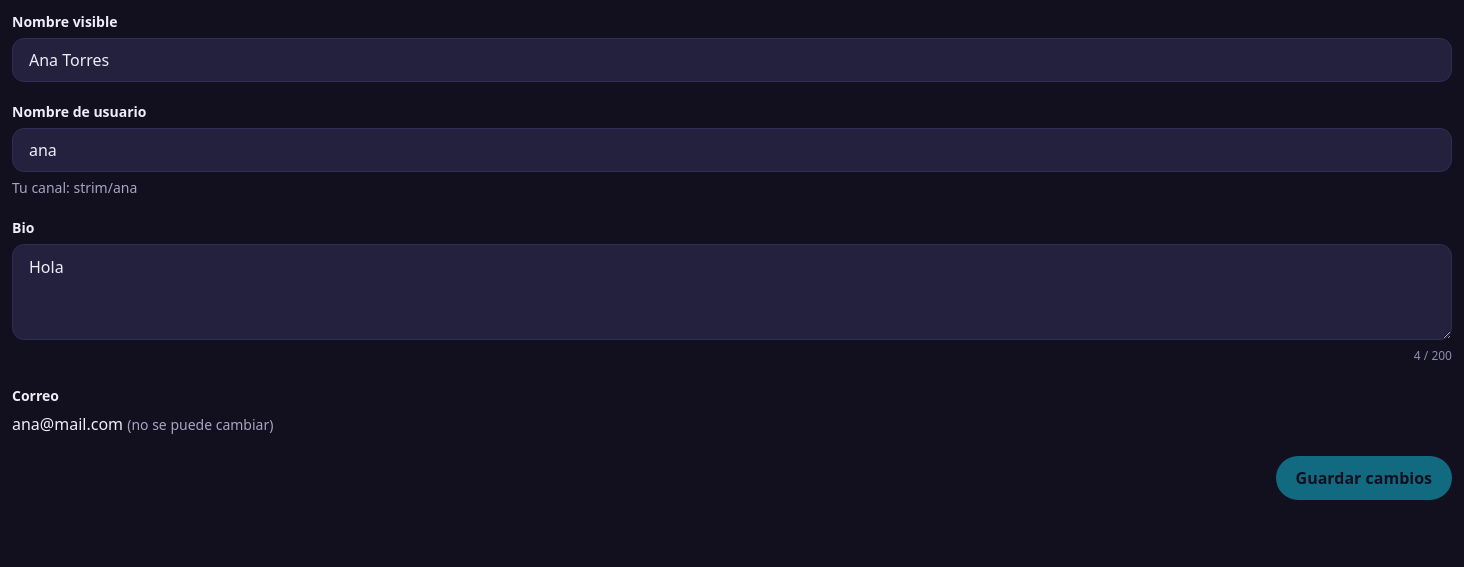
Test case: ProfileForm › valida en el navegador antes de enviar
Clear the field labelled "Nombre visible": (732, 60) left=12, top=38, right=1452, bottom=82
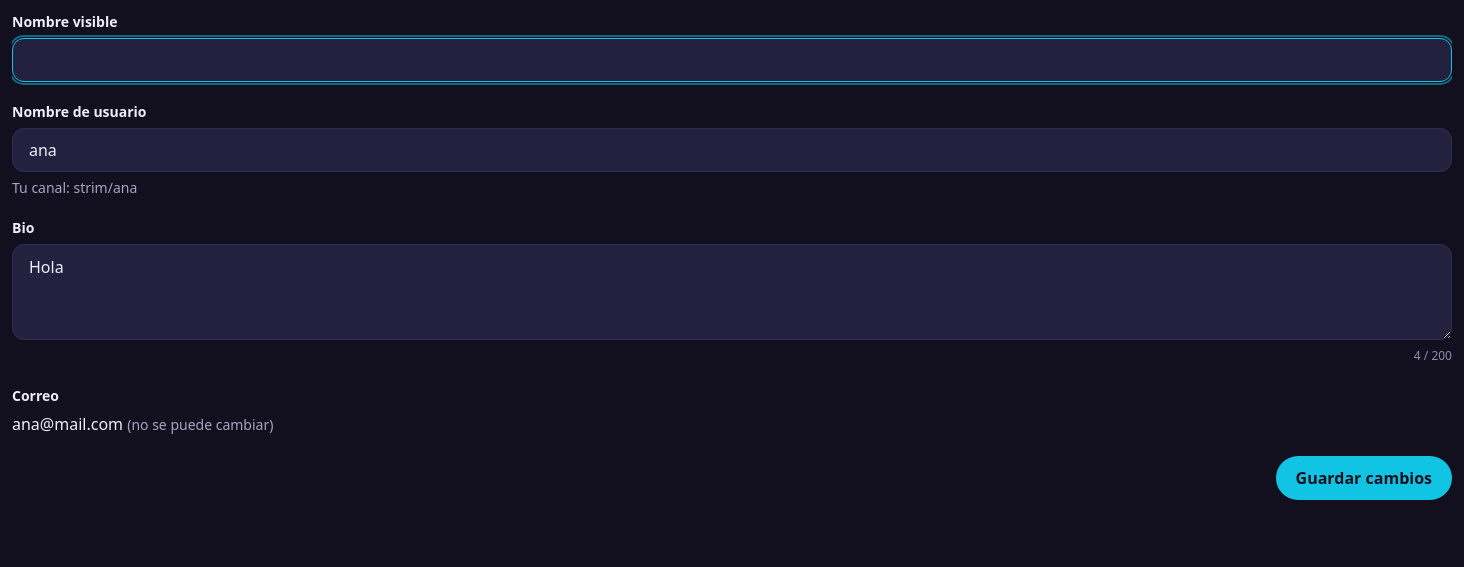
Replace the text in the field labelled "Nombre de usuario" with "ab": (732, 150) left=12, top=128, right=1452, bottom=172
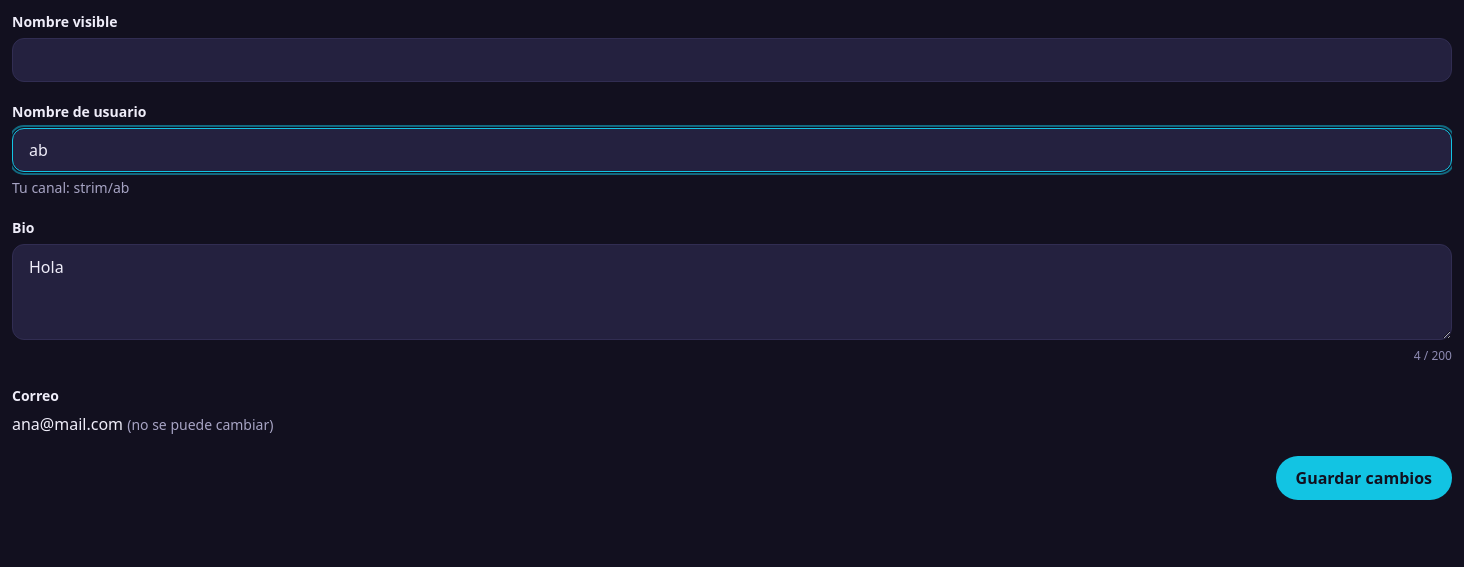
Click the button "Guardar cambios": (1364, 478) left=1276, top=456, right=1452, bottom=500
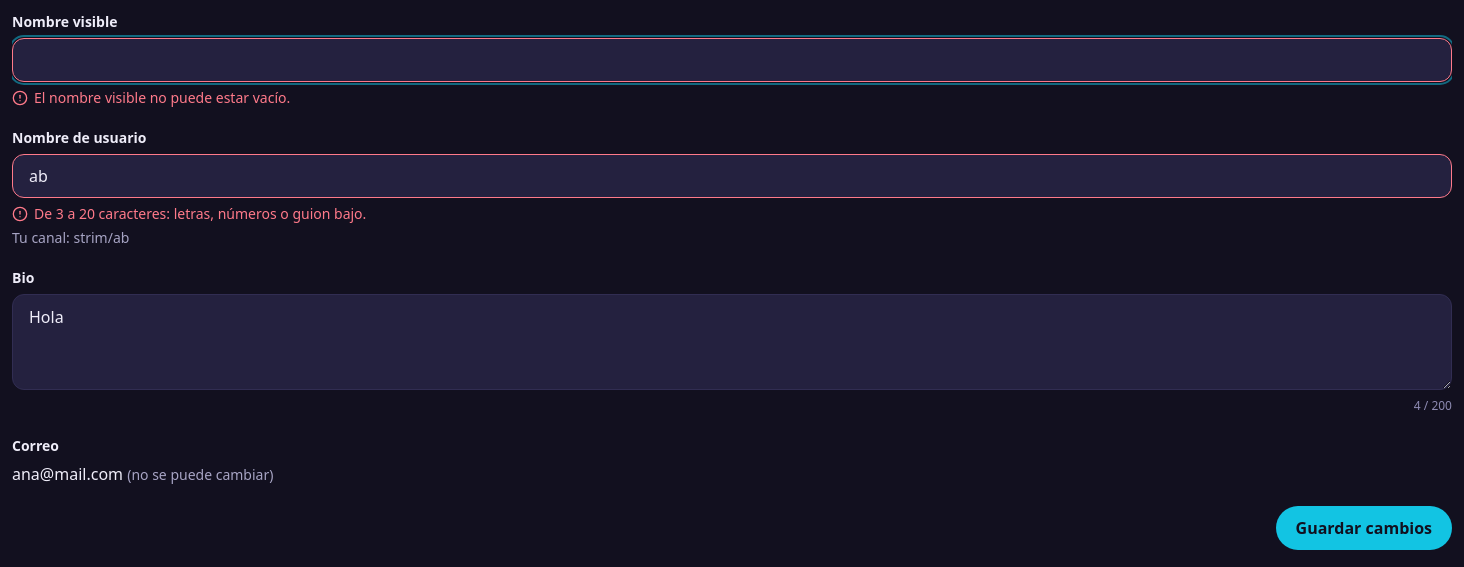
Expected: the text "El nombre visible no puede estar vacío." is shown, left=12, top=88, right=290, bottom=108
Expected: the text "De 3 a 20 caracteres: letras, números o guion bajo." is shown, left=12, top=204, right=366, bottom=224
